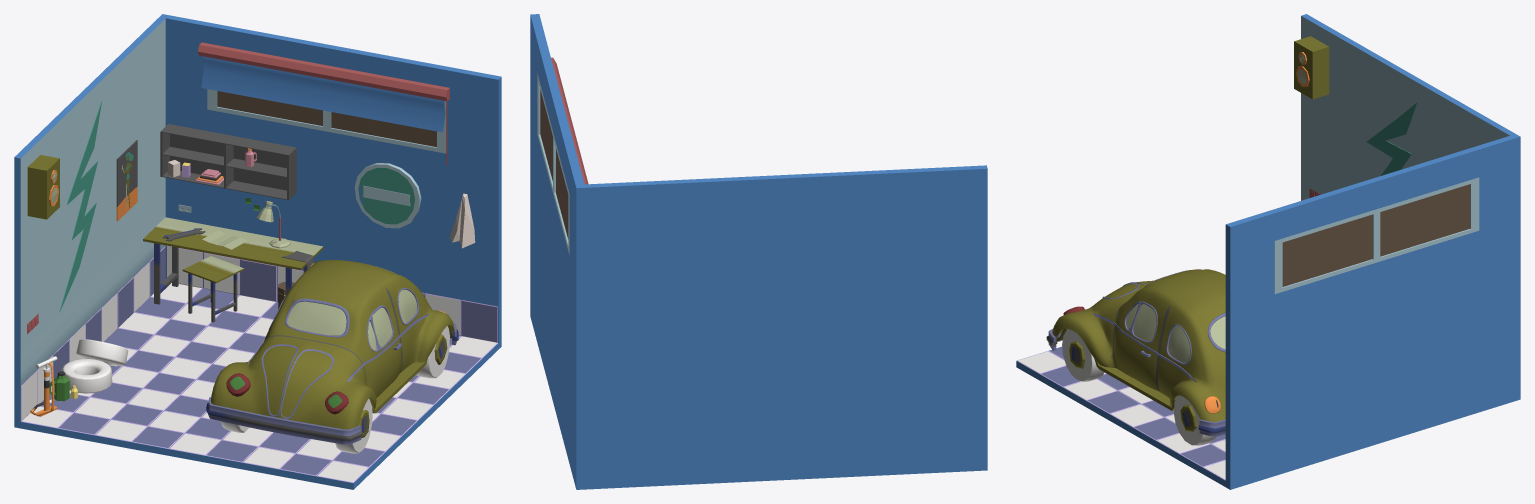
The model's file is Garage.fbx.
3 views of the same model, side by side, from view 1: azimuth 30°, elevation 25°; view 2: azimuth 150°, elevation 25°; view 3: azimuth 270°, elevation 25° (orthographic). The views are drawn at different scales.
Visible parts, largest first — view 1: Garage_Base, Garage_Floortile, Garage_Car, Garage_Cornice, Garage_Shelf, Garage_Windows, Garage_Table, Garage_Sign, Garage_Tires, Garage_Lightening, Garage_Speaker, Garage_Chair (+3 smaller); view 2: Garage_Base, Garage_Windows, Garage_Cornice; view 3: Garage_Base, Garage_Car, Garage_Windows, Garage_Floortile, Garage_Speaker, Garage_Lightening.
Boxes of the visible parts, <box> form: Garage_Base: <box>14,14,501,489</box>; Garage_Floortile: <box>21,245,497,482</box>; Garage_Car: <box>206,260,458,453</box>; Garage_Cornice: <box>198,42,449,165</box>; Garage_Shelf: <box>160,124,296,200</box>; Garage_Windows: <box>207,89,446,153</box>; Garage_Table: <box>143,217,323,304</box>; Garage_Sign: <box>354,163,421,228</box>; Garage_Tires: <box>61,339,128,393</box>; Garage_Lightening: <box>59,101,101,312</box>; Garage_Speaker: <box>27,155,59,219</box>; Garage_Chair: <box>182,256,244,322</box>; Garage_Base: <box>530,14,987,489</box>; Garage_Windows: <box>537,73,569,255</box>; Garage_Cornice: <box>551,57,588,184</box>; Garage_Base: <box>1016,14,1520,489</box>; Garage_Car: <box>1046,269,1225,445</box>; Garage_Windows: <box>1274,177,1479,293</box>; Garage_Floortile: <box>1017,347,1225,480</box>; Garage_Speaker: <box>1294,36,1329,99</box>; Garage_Lightening: <box>1367,102,1417,175</box>.
Size of the model in its own units: 699 by 402 by 699.
